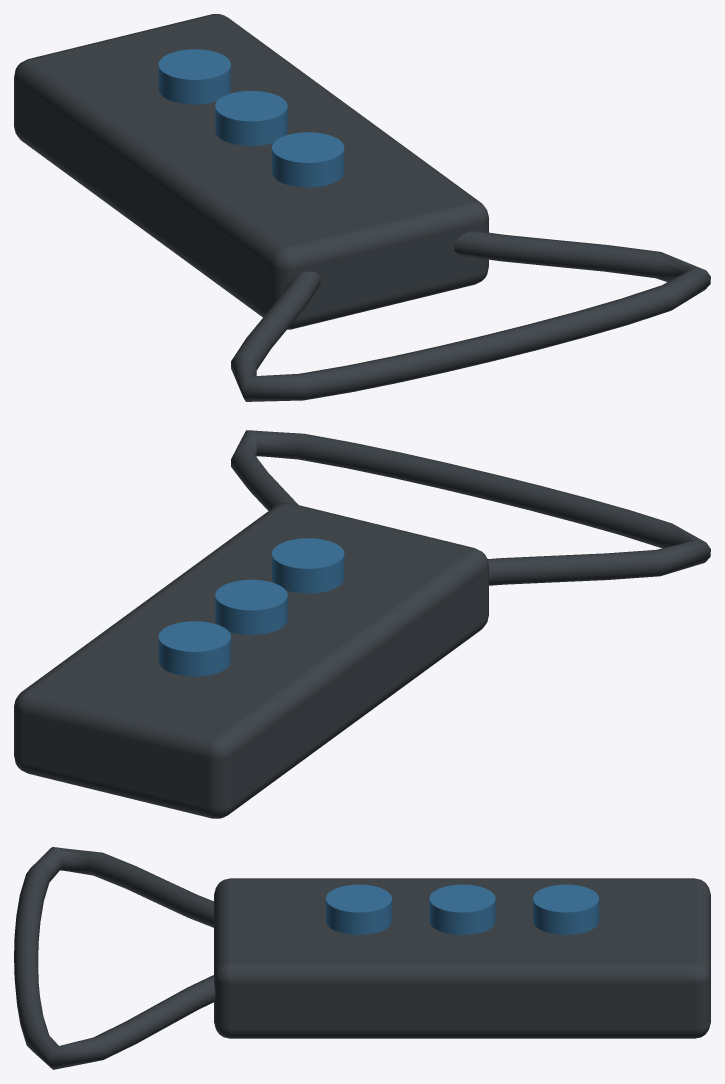
Rendered from fencing-club-and-tournament-piste-referee-remote-c5b396b3__31214.glb.
3 renders of one model, top to bottom at view 1: azimuth 30°, elevation 25°; view 2: azimuth 150°, elevation 25°; view 3: azimuth 270°, elevation 25°, orthographic. The views are drawn at different scales.
Parts seen in each view (by area): view 1: referee-remote; view 2: referee-remote; view 3: referee-remote.
Boxes of the visible parts, left/top/right/bottom form: referee-remote: left=14, top=14, right=710, bottom=401; referee-remote: left=14, top=430, right=710, bottom=818; referee-remote: left=14, top=847, right=710, bottom=1069.
Size of the model in its own units: 0.119 by 0.026 by 0.1683.
